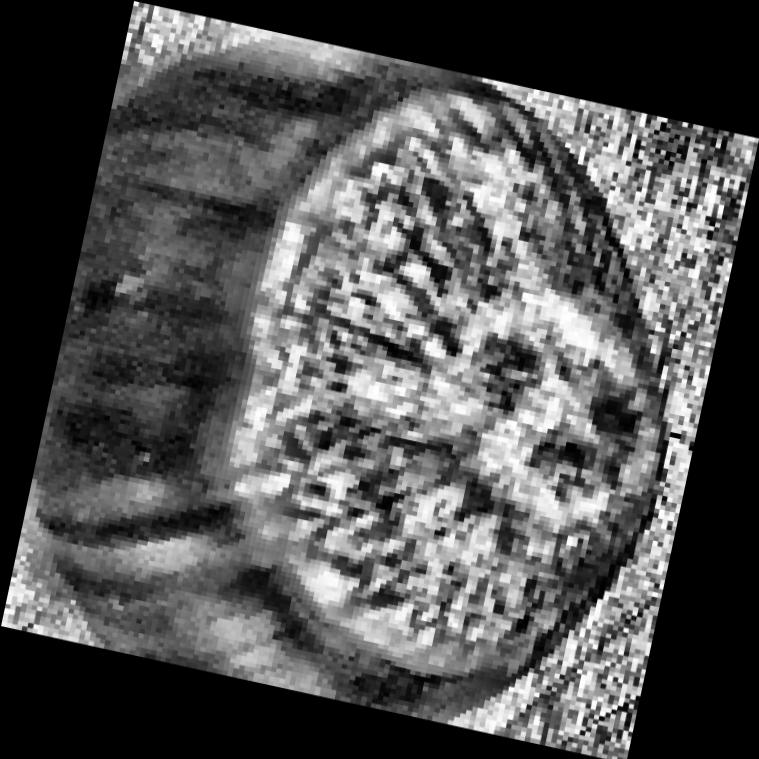qualityHazelnut: (0, 0, 754, 759)
